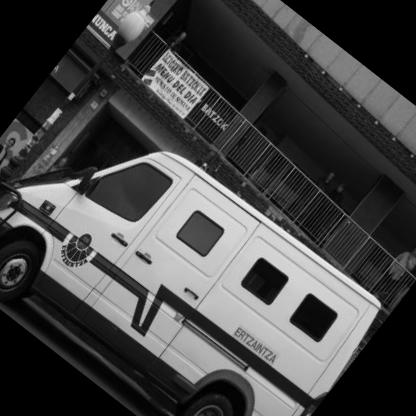ambulance: (1, 35, 416, 416)
